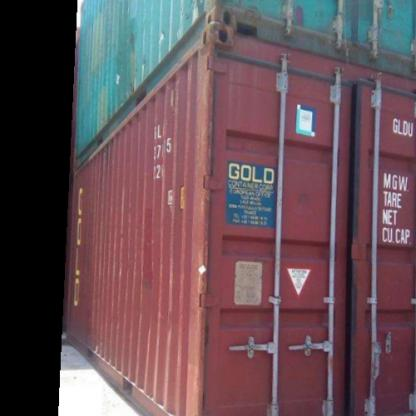Damage: (186, 13, 228, 388)
